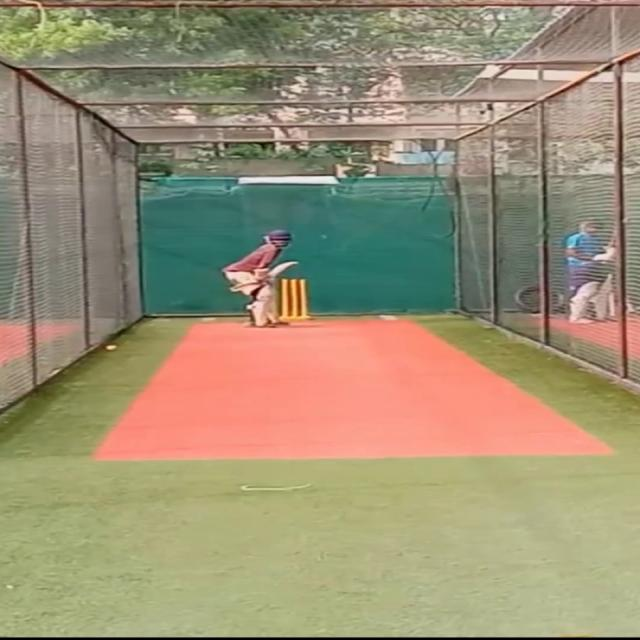ball: (103, 342, 121, 350)
stump: (278, 277, 310, 322)
